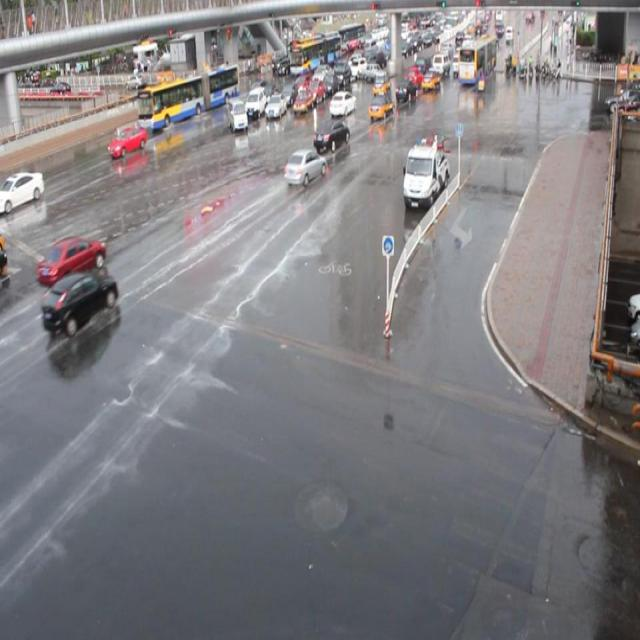bus: (402, 139, 449, 208)
car: (42, 271, 119, 335), (38, 233, 107, 286), (1, 171, 45, 213), (283, 148, 326, 186), (108, 126, 147, 157), (313, 120, 349, 152), (328, 90, 356, 115), (368, 92, 393, 119), (292, 89, 313, 115), (266, 93, 287, 118), (264, 77, 286, 100), (304, 78, 324, 103), (246, 79, 268, 101), (395, 78, 416, 101), (279, 81, 299, 105), (291, 73, 311, 95), (372, 74, 390, 94)
truck: (226, 96, 247, 132), (245, 86, 268, 118)
van: (137, 62, 239, 130)
